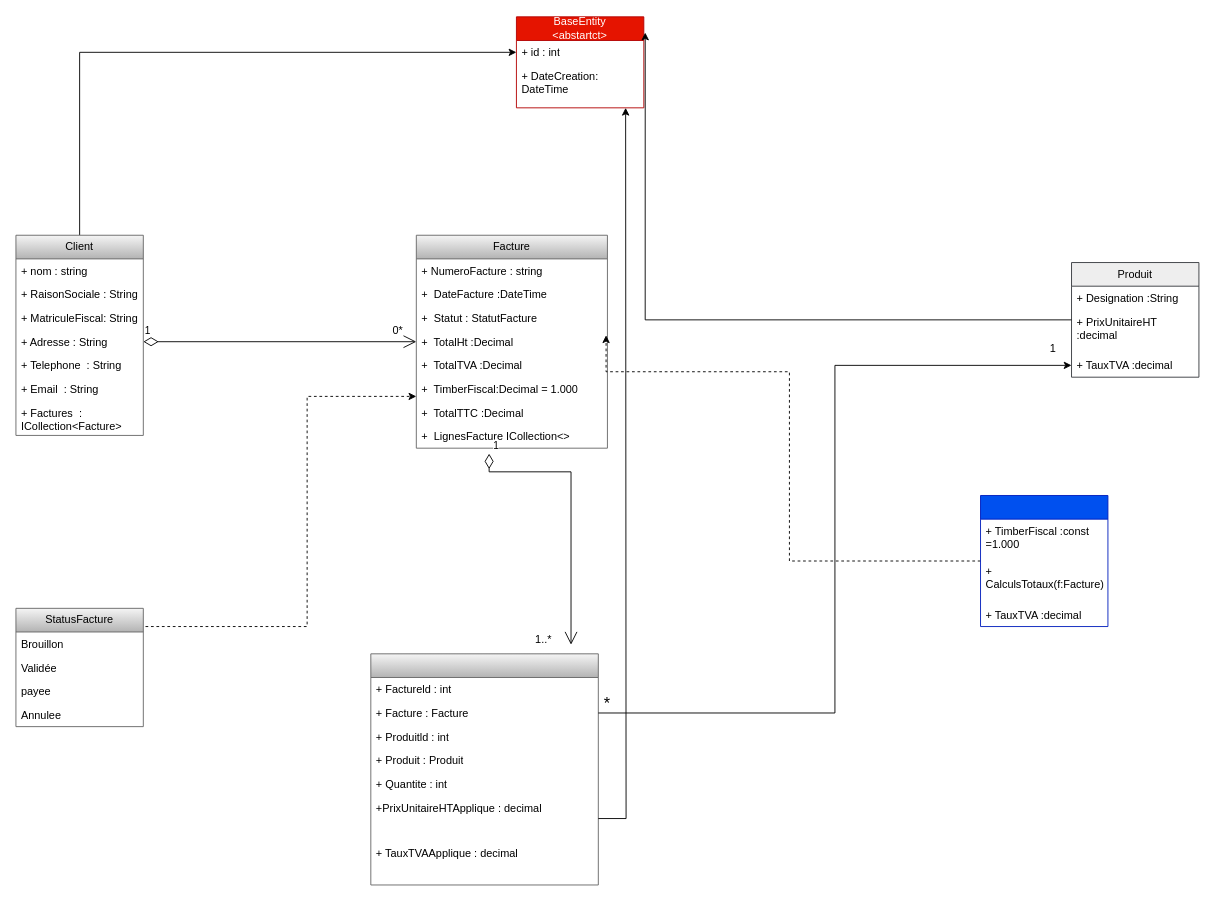
Image size: 1215x904. Some labels were removed from this diagram. The shapes that lost their labels are listed below. From the top down, each one's box as (x1, y1, x2, y2) in pixels, then its label:
(980, 495, 1108, 627): FactureService
(370, 653, 598, 885): LigneFacture
